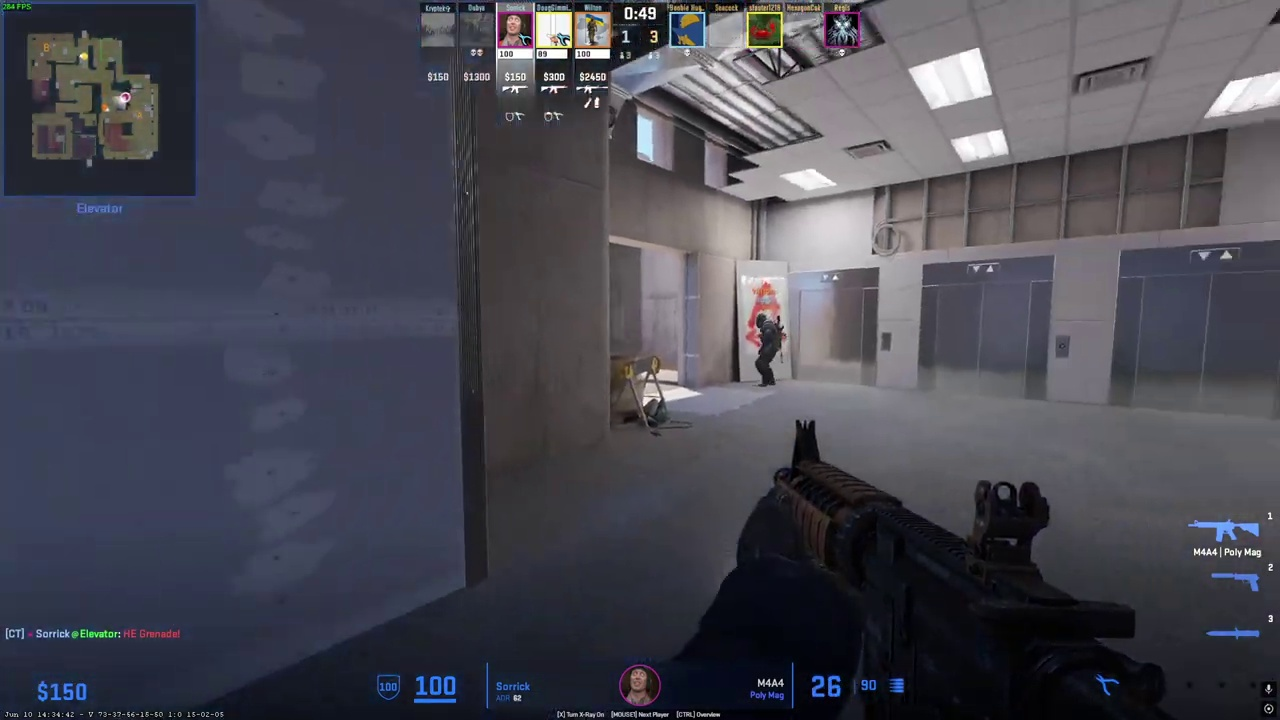CT: (755, 313, 782, 387)
